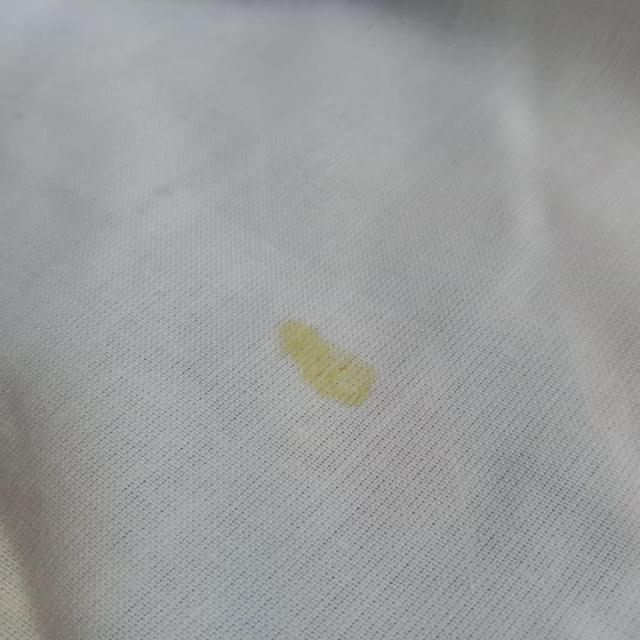stain: (272, 316, 389, 413)
